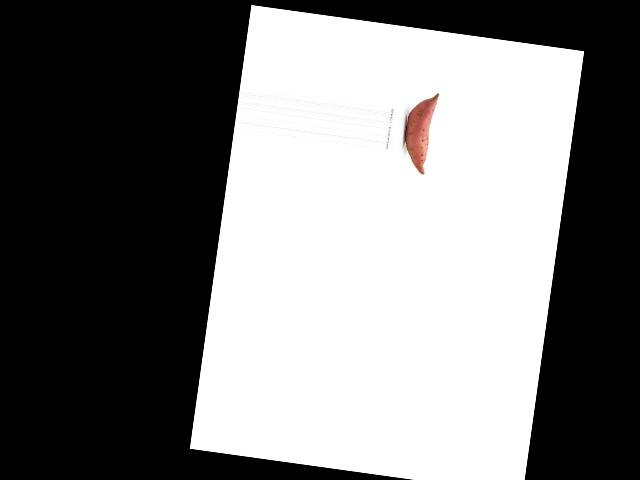sweet_potato: (399, 88, 443, 176)
